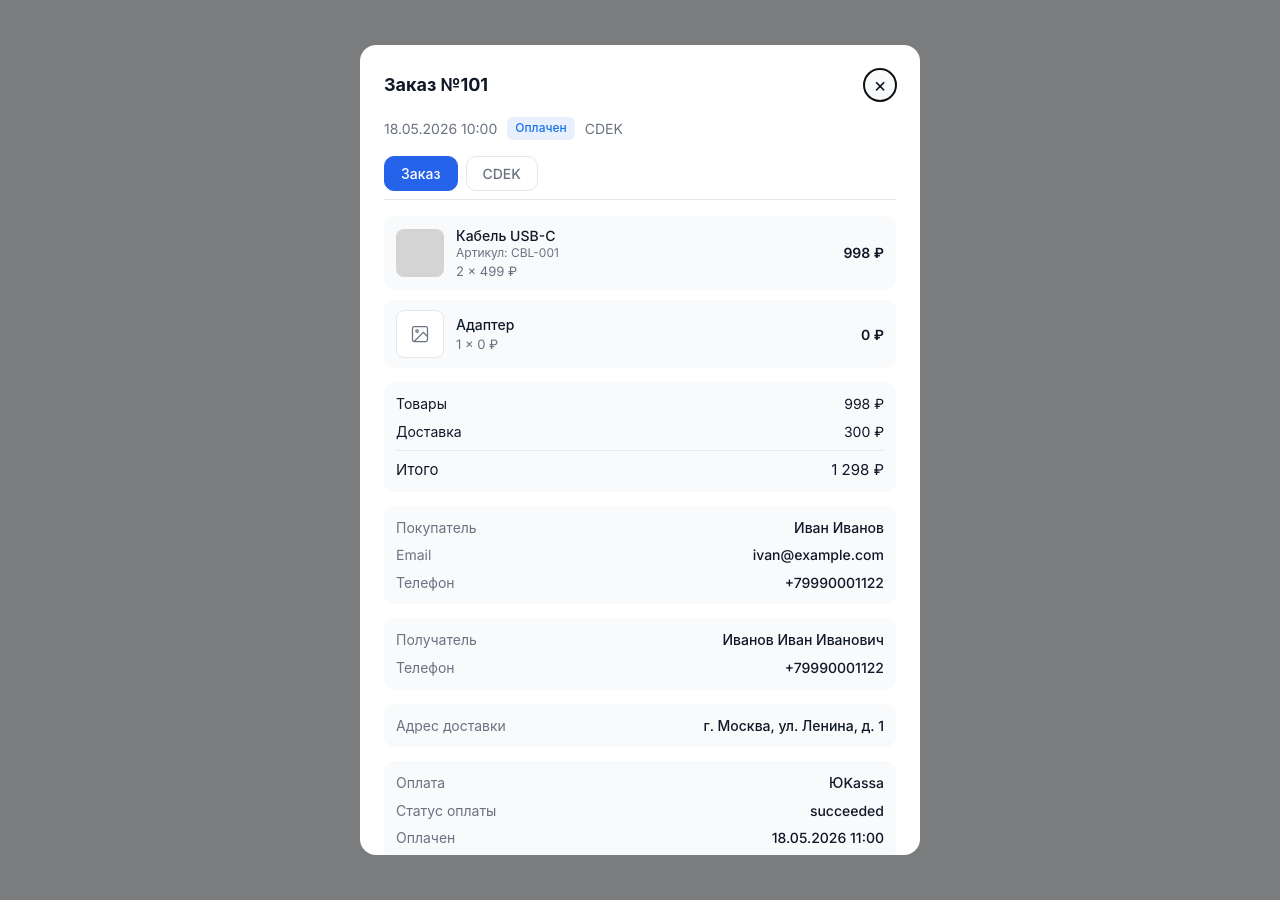
Test: AdminOrderModal.vue › показывает вкладку CDEK с историей статусов и ссылкой
Click the button with test id "order-modal-tab-cdek" at (502,173), box x1=466 y1=156 x2=538 y2=191
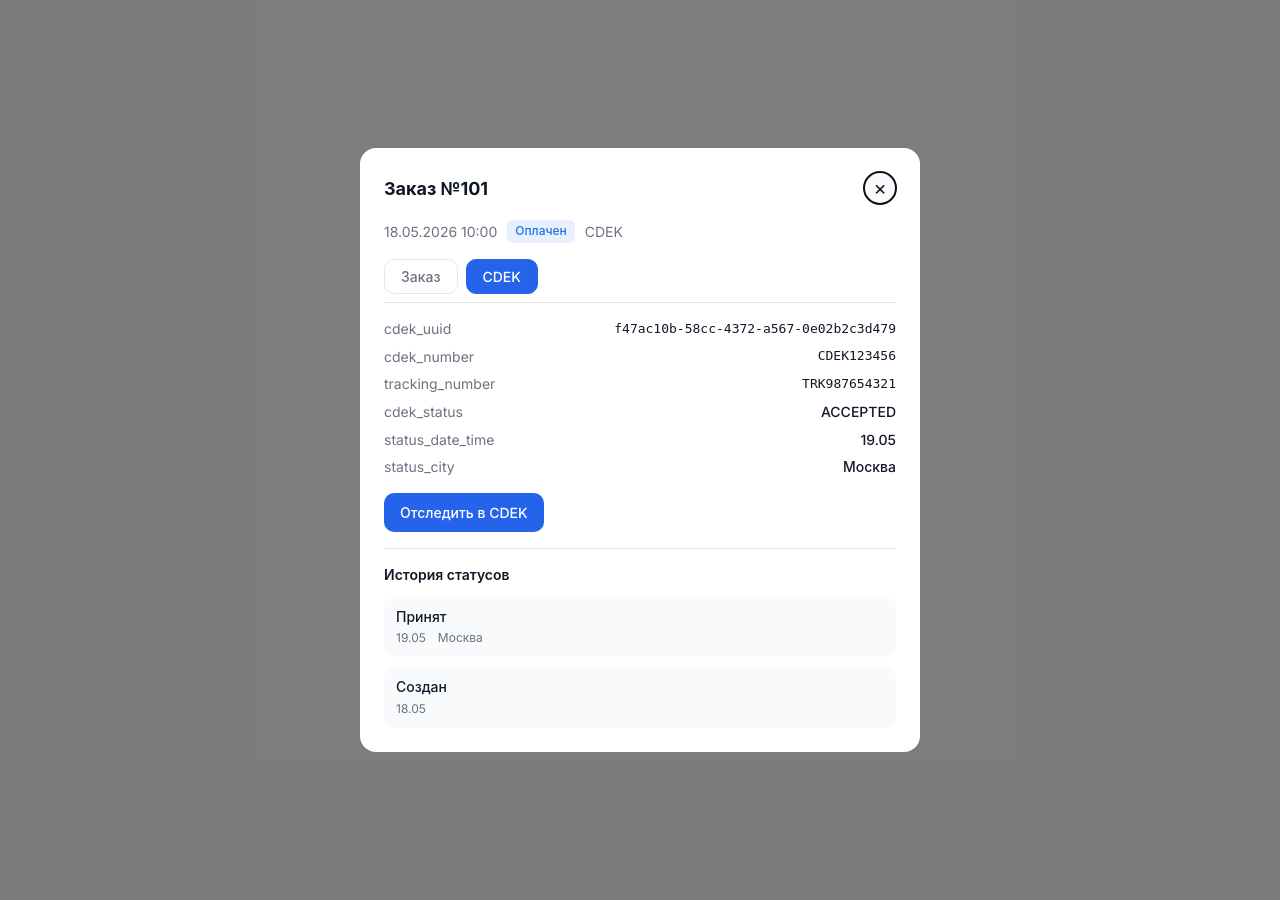
Result: the element with test id "order-modal-cdek-tab" shows "f47ac10b-58cc-4372-a567-0e02b2c3d479" at x1=614 y1=321 x2=896 y2=336
Result: the element with test id "order-modal-cdek-tab" shows "CDEK123456" at x1=818 y1=348 x2=896 y2=363
Result: the element with test id "order-modal-cdek-tab" shows "ACCEPTED" at x1=821 y1=403 x2=896 y2=420
